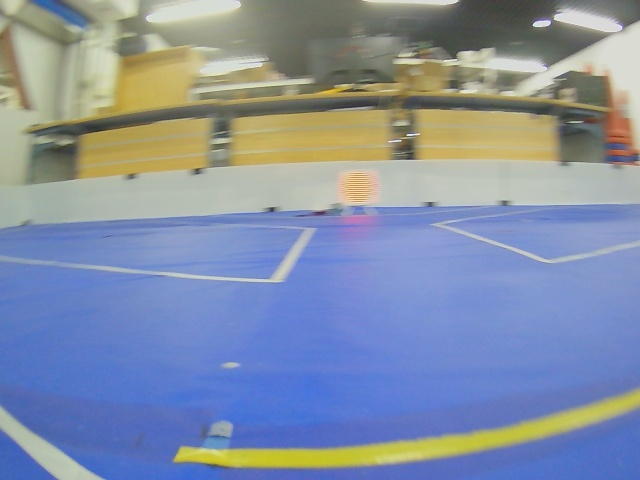red: (338, 170, 380, 207)
